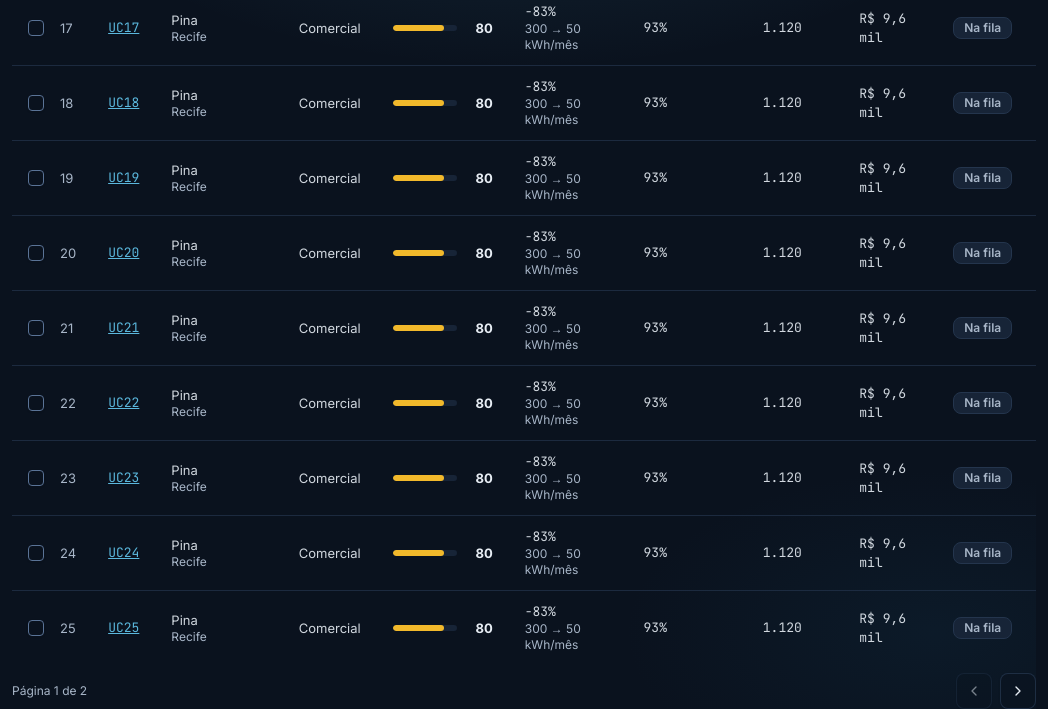
Test: PrioritizedQueueTable › mostra 25 UCs por página e navega para as seguintes
(page scrolled)
Expected: the text "Página 1 de 2" is shown, [12, 682, 87, 698]
Expected: the link "UC25" is shown, [108, 619, 139, 636]
Click the button named "Próxima página".
click(1018, 690)  # box [1000, 672, 1036, 708]
(page scrolled)
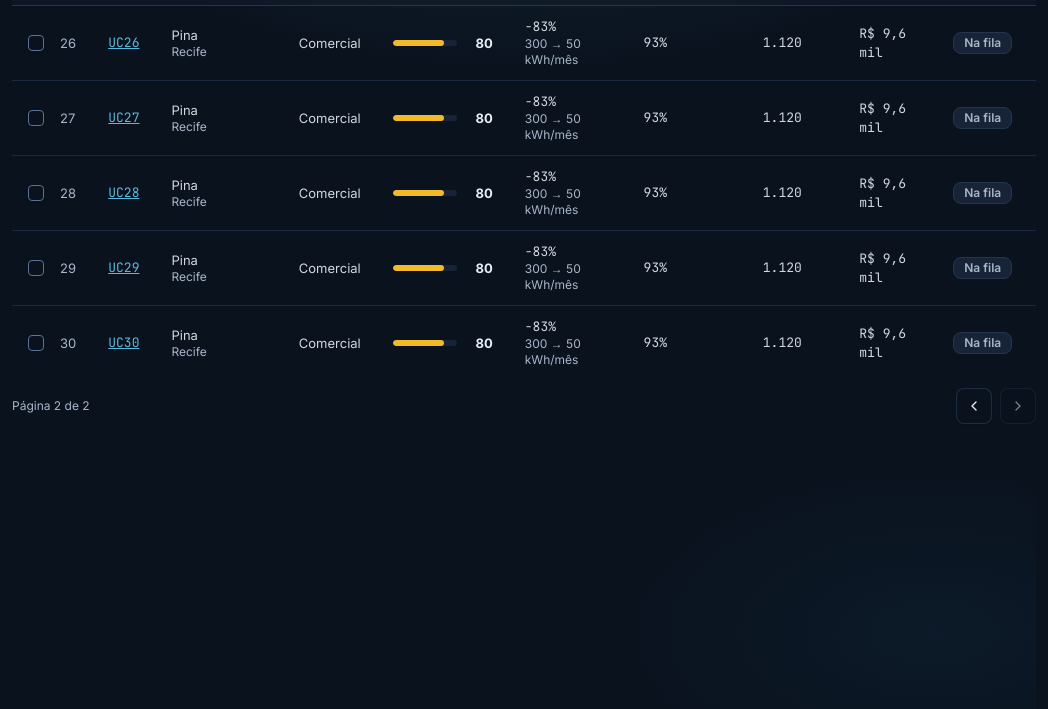
Expected: the text "Página 2 de 2" is shown, [12, 398, 90, 414]
Expected: the link "UC26" is shown, [108, 34, 139, 51]
Expected: the link "UC25" is gone
